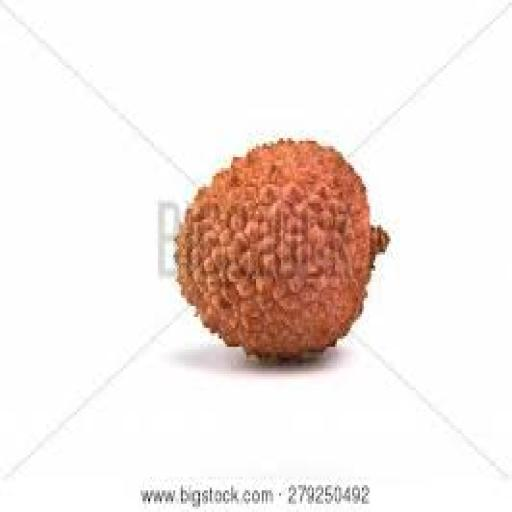lychee: (176, 141, 388, 360)
